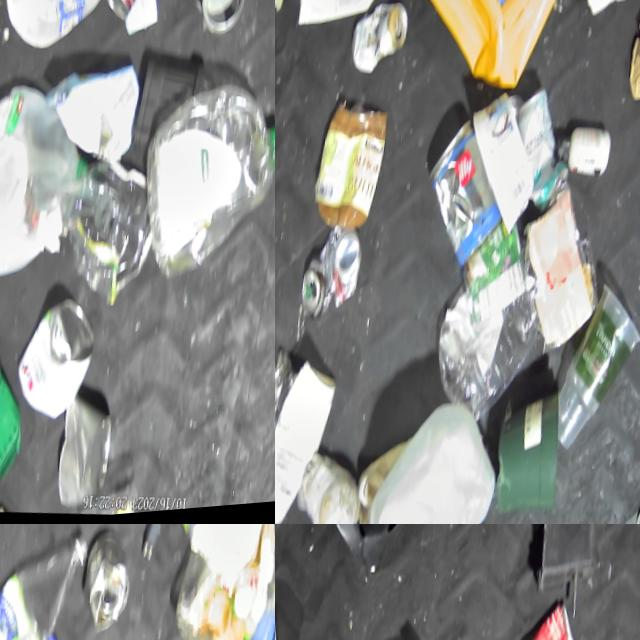can: (416, 111, 515, 281), (13, 295, 101, 430), (503, 90, 580, 227), (55, 394, 120, 516), (298, 221, 369, 331), (462, 216, 528, 317), (75, 533, 136, 640), (347, 0, 414, 90), (506, 604, 594, 640), (100, 0, 195, 33), (195, 0, 251, 44)
milk_jug: (359, 398, 509, 524), (0, 80, 65, 291), (0, 0, 147, 64)
non_white_jug: (132, 76, 275, 302), (394, 0, 573, 117)
plastic_bottle: (0, 527, 90, 640)
